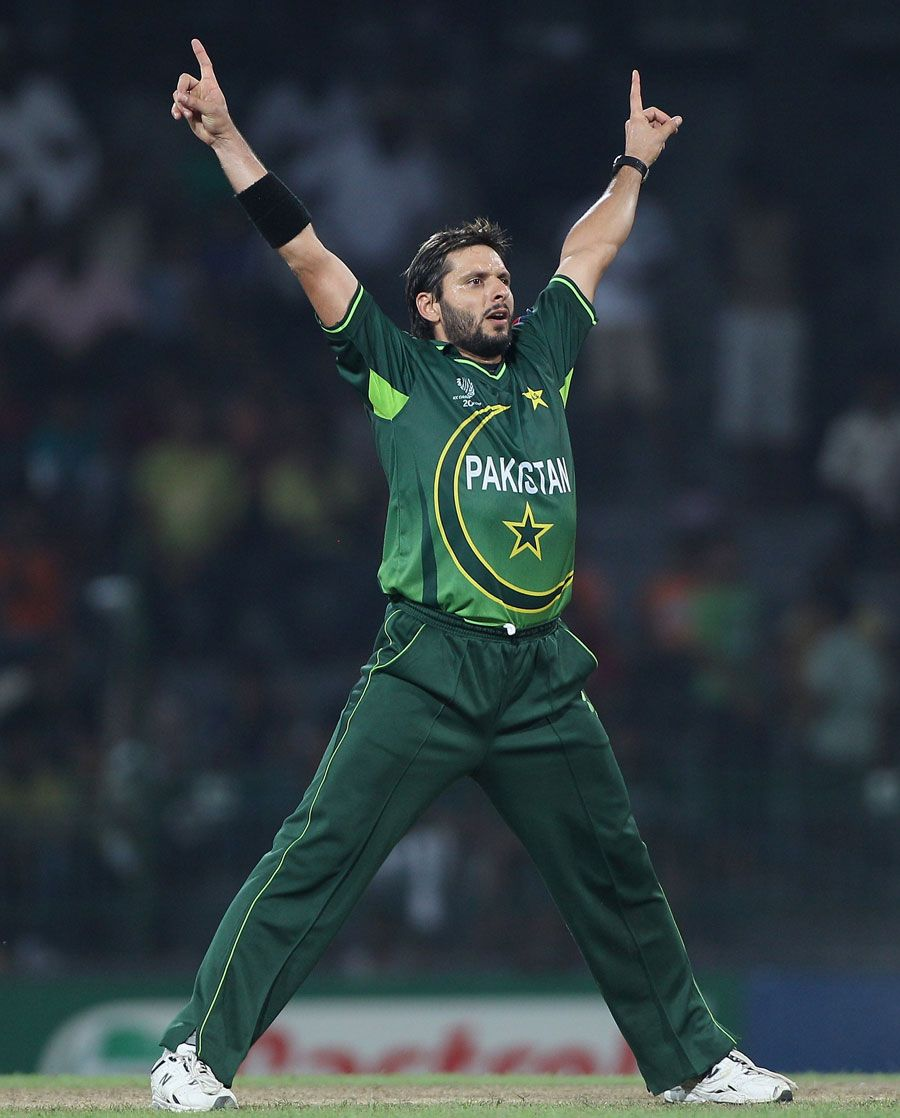Hip: (401, 585, 563, 739)
LeftElbow: (562, 203, 617, 302)
LeftKnee: (562, 756, 663, 945)
LeftShoulder: (519, 250, 591, 419)
LeftWrist: (619, 48, 684, 162)
RightAnkle: (153, 961, 244, 1101)
RightElbow: (289, 174, 349, 334)
RightKnee: (273, 745, 364, 945)
RightShoulder: (360, 239, 420, 430)
RightWrist: (172, 25, 235, 178)
Torso: (420, 367, 554, 579)
